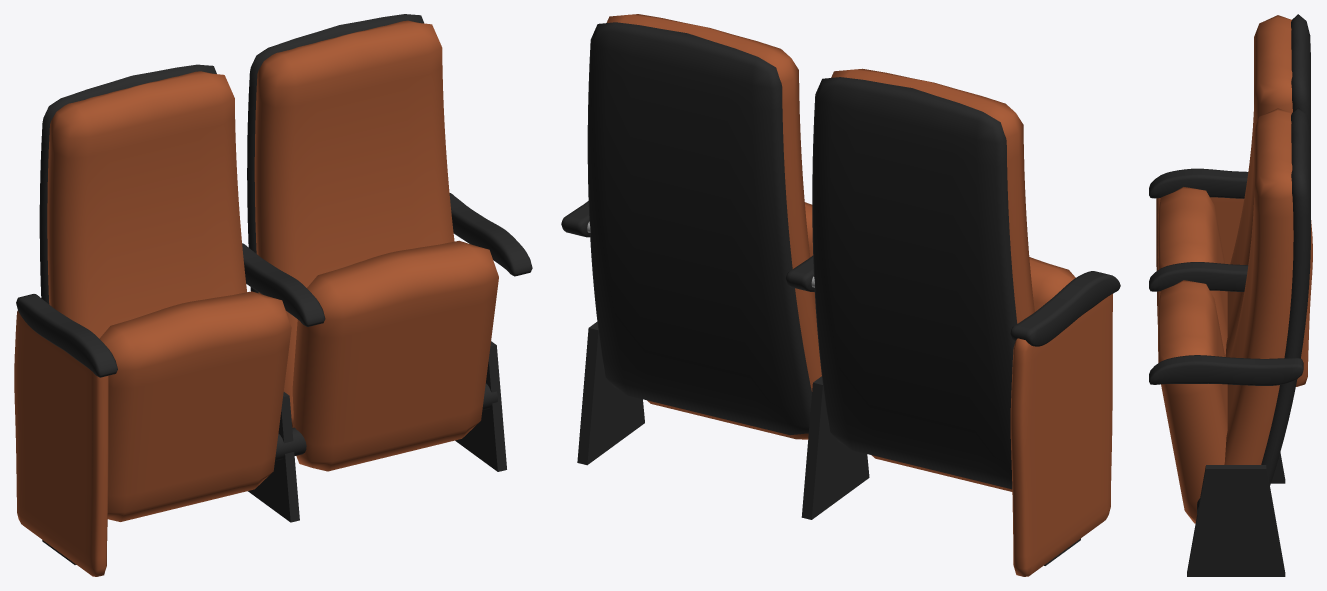
Rendered from sillasDerBorde.fbx.
3 renders of one model, left to right at view 1: azimuth 30°, elevation 25°; view 2: azimuth 150°, elevation 25°; view 3: azimuth 270°, elevation 25°, orthographic. The views are drawn at different scales.
Visible parts, largest first — view 1: pCube14, pCube1, pCube15, pCube3, pCube4, pCube6, pCube16, pCube2, pCube10, pCube20, pCube22, pCube8; view 2: pCube16, pCube2, pCube4, pCube14, pCube1, pCube8, pCube22, pCube6, pCube3, pCube15, pCube10; view 3: pCube14, pCube15, pCube22, pCube16, pCube1, pCube3, pCube20, pCube6, pCube10, pCube4, pCube2, pCube8.
Boxes of the visible parts, box(x1,y1,x2,y2) form: pCube14: box(254, 20, 454, 427); pCube1: box(47, 71, 246, 338); pCube15: box(292, 240, 498, 471); pCube3: box(99, 291, 291, 521); pCube4: box(14, 310, 108, 576); pCube6: box(16, 294, 117, 377); pCube16: box(247, 14, 423, 293); pCube2: box(39, 64, 216, 304); pCube10: box(242, 243, 325, 326); pCube20: box(449, 193, 532, 276); pCube22: box(455, 341, 506, 471); pCube8: box(248, 392, 299, 522); pCube16: box(587, 22, 811, 435); pCube2: box(812, 77, 1017, 489); pCube4: box(1010, 294, 1112, 576); pCube14: box(606, 14, 821, 391); pCube1: box(831, 68, 1034, 323); pCube8: box(801, 376, 869, 519); pCube22: box(577, 322, 644, 465); pCube6: box(1010, 271, 1120, 346); pCube3: box(871, 257, 1075, 491); pCube15: box(647, 202, 813, 439); pCube10: box(785, 255, 814, 291); pCube14: box(1224, 108, 1293, 464); pCube15: box(1158, 280, 1227, 523); pCube22: box(1187, 465, 1285, 576); pCube16: box(1261, 107, 1310, 485); pCube1: box(1225, 15, 1292, 357); pCube3: box(1158, 187, 1227, 356); pCube20: box(1149, 355, 1303, 385); pCube6: box(1149, 168, 1248, 198); pCube10: box(1149, 262, 1248, 291); pCube4: box(1156, 197, 1312, 386); pCube2: box(1291, 14, 1310, 145); pCube8: box(1271, 452, 1285, 483).
Bounding box in the file's own units: 5.47 × 5.13 × 1.93.
